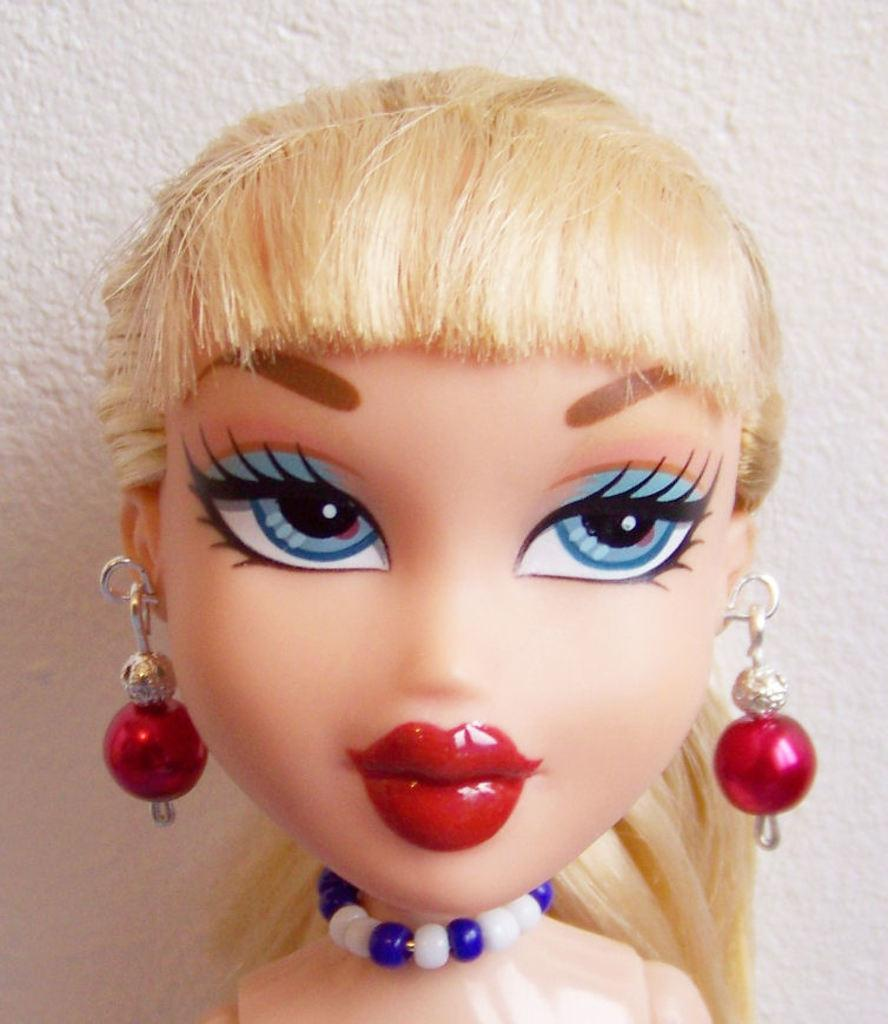earring: (88, 545, 209, 826), (711, 559, 822, 849)
